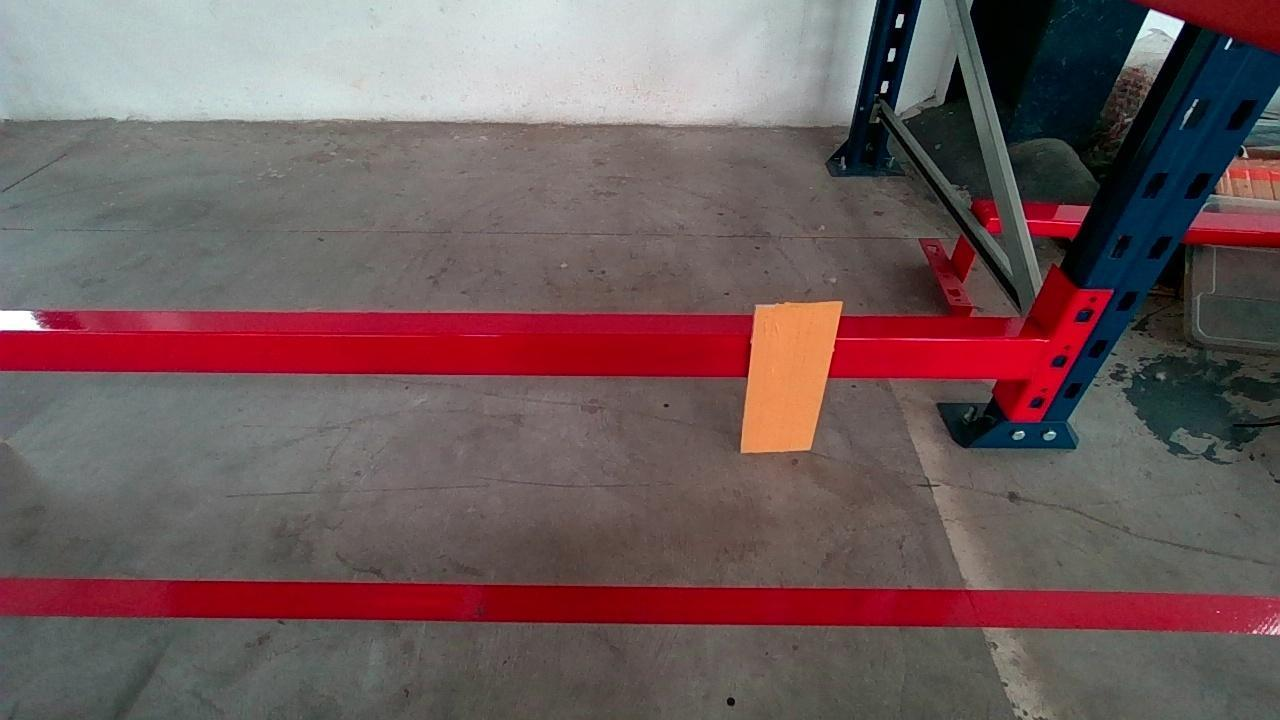h_rack: (9, 322, 1046, 381)
orange_strip: (740, 303, 840, 452)
red_line: (0, 576, 1280, 637)
